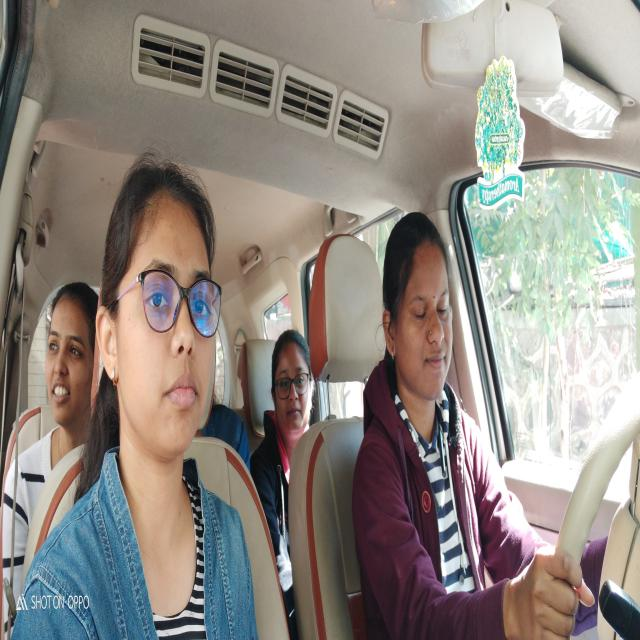drowsy: (382, 222, 456, 408)
person: (97, 180, 220, 455), (45, 281, 88, 424), (271, 335, 312, 435)
